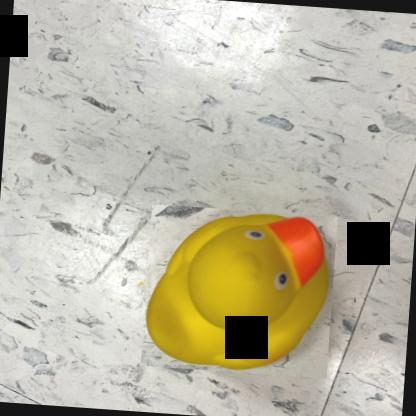duck: (141, 204, 338, 378)
